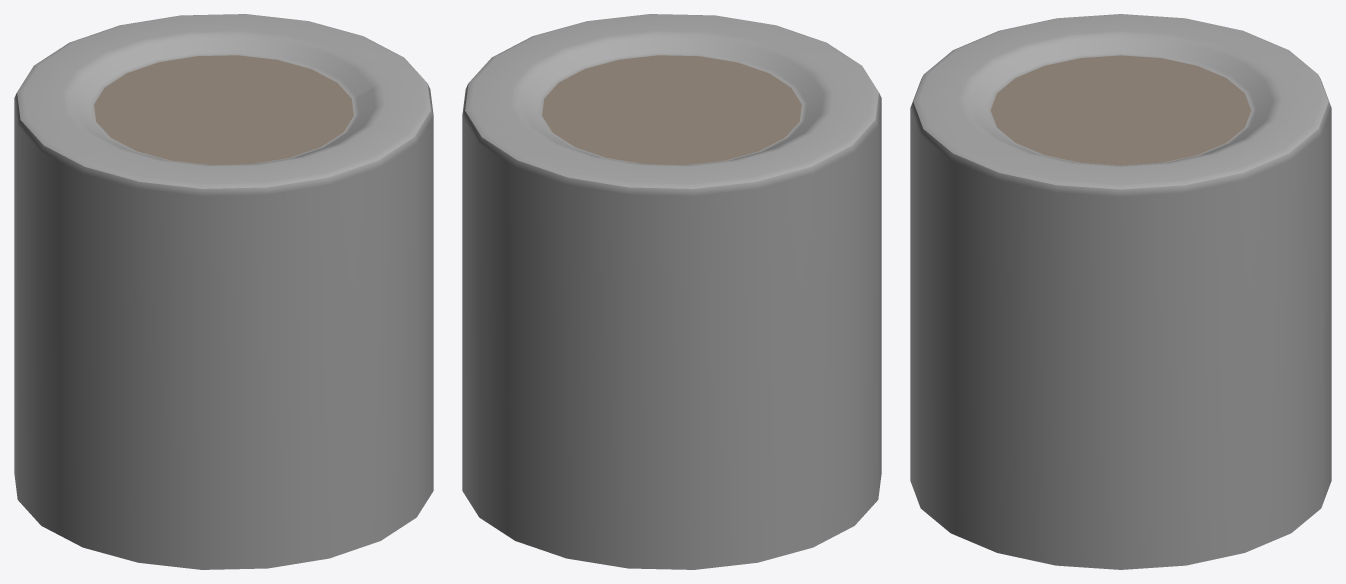
File: M_TreePlatform1stDraft.fbx
3 renders of one model, left to right at view 1: azimuth 30°, elevation 25°; view 2: azimuth 150°, elevation 25°; view 3: azimuth 270°, elevation 25°, orthographic.
Visible parts, largest first — view 1: pCylinder2; view 2: pCylinder2; view 3: pCylinder2.
Part boxes in pixels (x1,y1,x2,y2): pCylinder2: (14, 14, 433, 569); pCylinder2: (462, 14, 881, 569); pCylinder2: (910, 14, 1331, 569).
Bounding box in the file's own units: 2 × 2 × 2.
